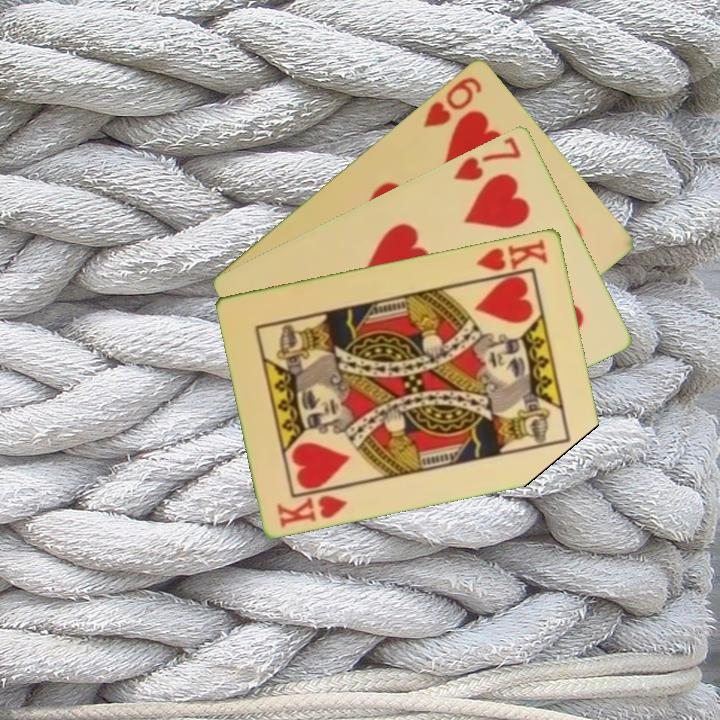6h: (419, 72, 485, 131)
7h: (450, 132, 524, 184)
Kh: (473, 235, 551, 282), (274, 484, 351, 531)
